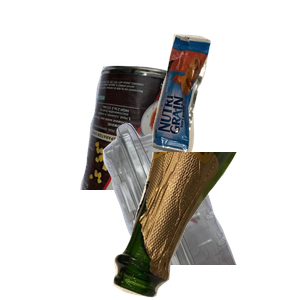glass: (111, 152, 300, 300)
metal: (78, 63, 266, 243)
plastic: (55, 120, 284, 300)
trash: (149, 31, 300, 179)
